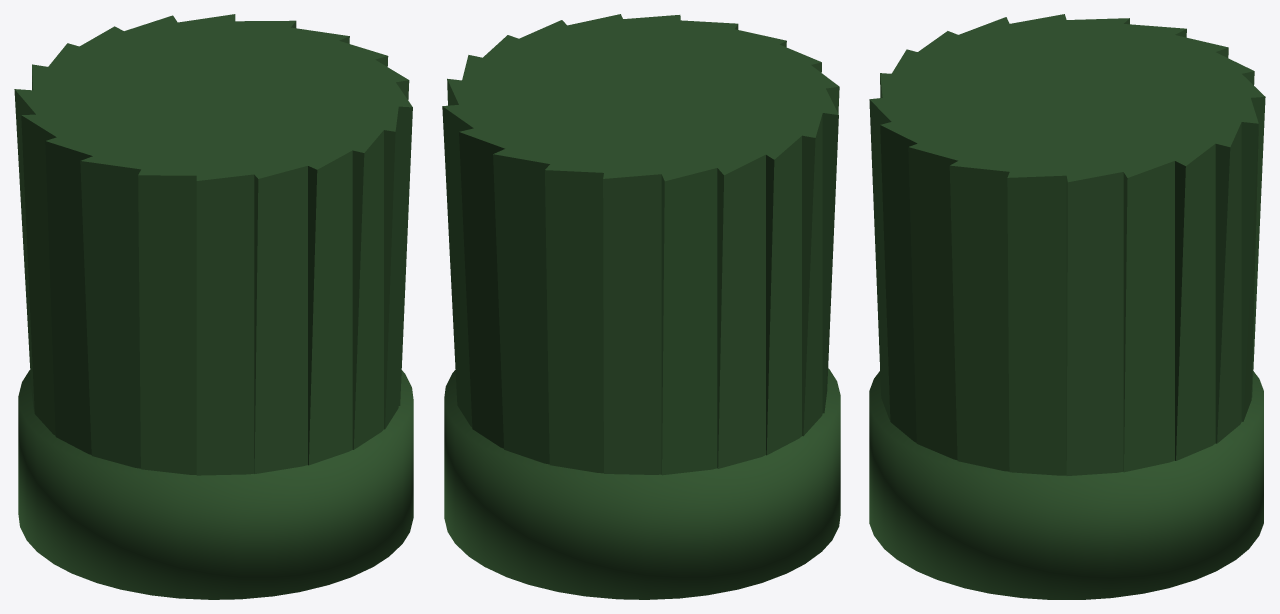
File: toque.glb
3 views of the same model, side by side, from view 1: azimuth 30°, elevation 25°; view 2: azimuth 150°, elevation 25°; view 3: azimuth 270°, elevation 25° (orthographic).
Visible parts, largest first — view 1: Cylinder; view 2: Cylinder; view 3: Cylinder.
Boxes of the visible parts, x1,y1,x2,y2 form: Cylinder: (14, 14, 413, 599); Cylinder: (442, 14, 840, 599); Cylinder: (869, 14, 1265, 599).
Size of the model in its own units: 2.16 by 2.51 by 2.15.
